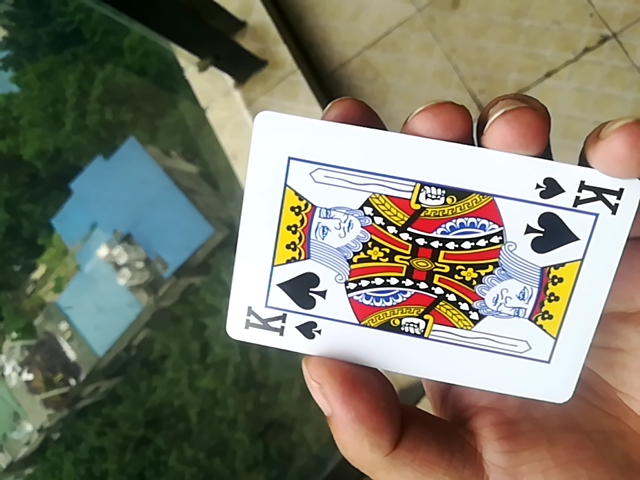ht k: (218, 106, 639, 408)
